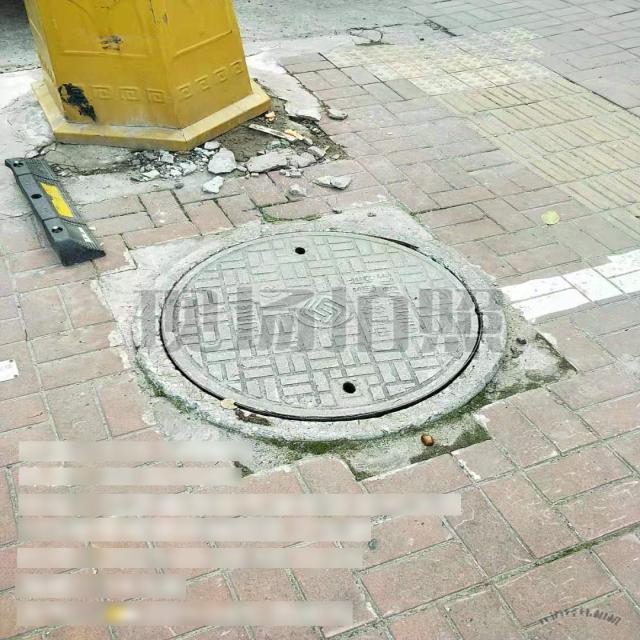Good: (133, 220, 508, 442)
